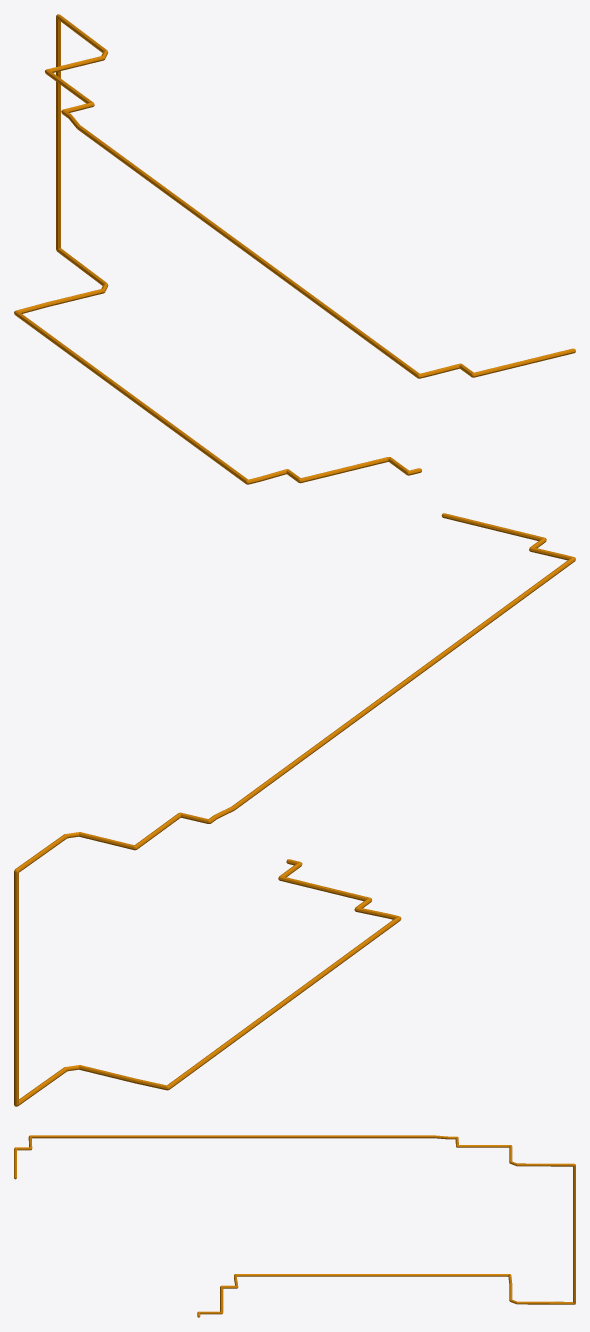
3 views of the same model, one above another, from view 1: azimuth 30°, elevation 25°; view 2: azimuth 150°, elevation 25°; view 3: azimuth 270°, elevation 25° (orthographic). The views are drawn at different scales.
Size of the model in its own units: 660 by 1020 by 3687.
